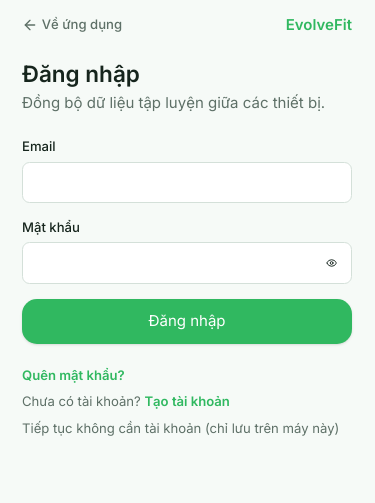
Test: Auth pages (P0/P2) › shows a pending state, blocks double submits, then a specific inline error
The image size is (375, 503).
In the field labelled "Email": (187, 182) [22,162,352,203], type "phuc@example.com"
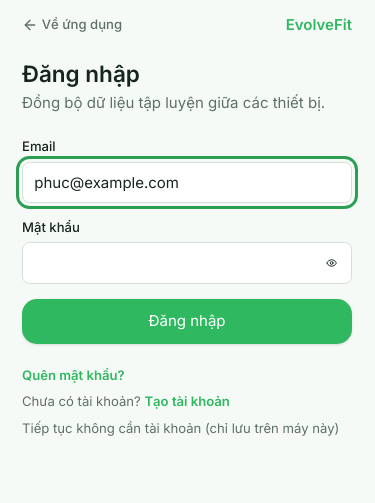
In the password field labelled "Mật khẩu": (187, 263) [22,242,352,284], type "secret123"
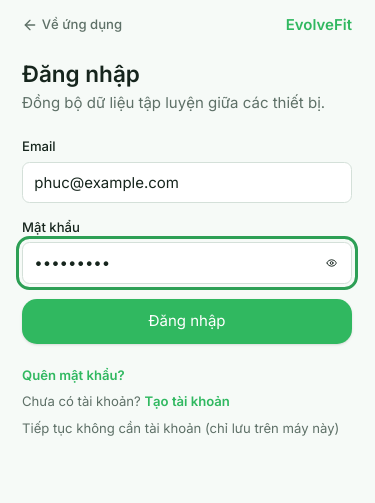
Click the button "Đăng nhập": (187, 321) [22,298,352,344]
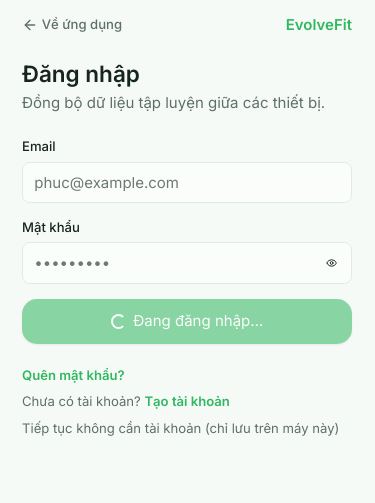
Now the button "Đang đăng nhập…" is disabled
Click the button "Đang đăng nhập…": (187, 321) [22,298,352,344]
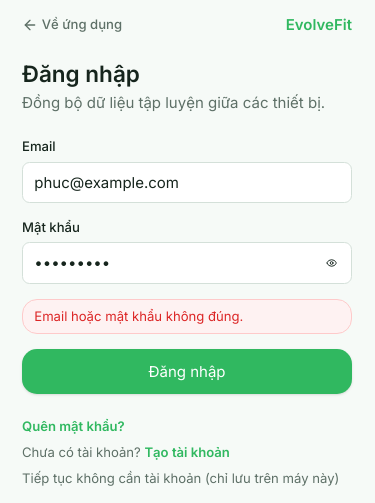
Now the message reads "Email hoặc mật khẩu không đúng.", box [34,308,243,324]
Now the button "Đăng nhập" is enabled, box [22,349,352,394]
